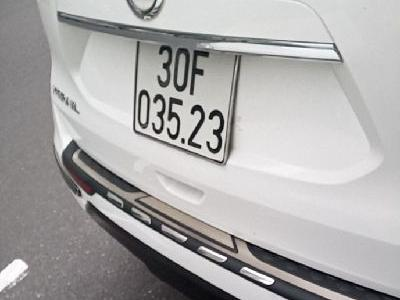lisence: (132, 40, 242, 168)
